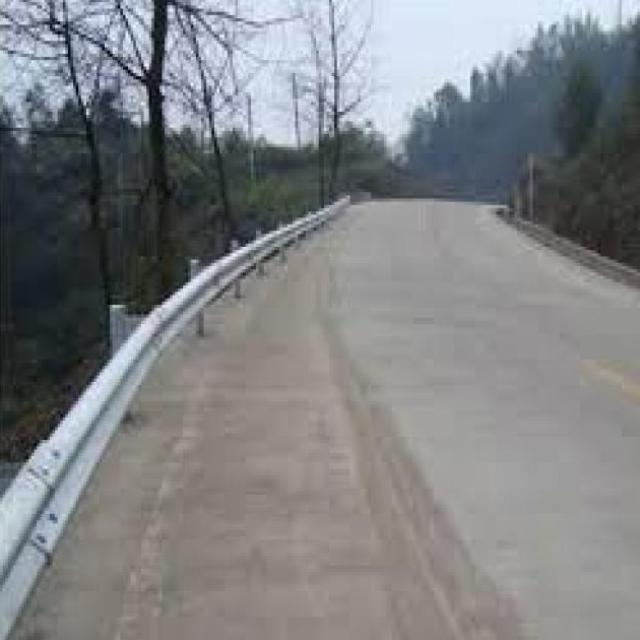Guard rail: (0, 196, 349, 640)
